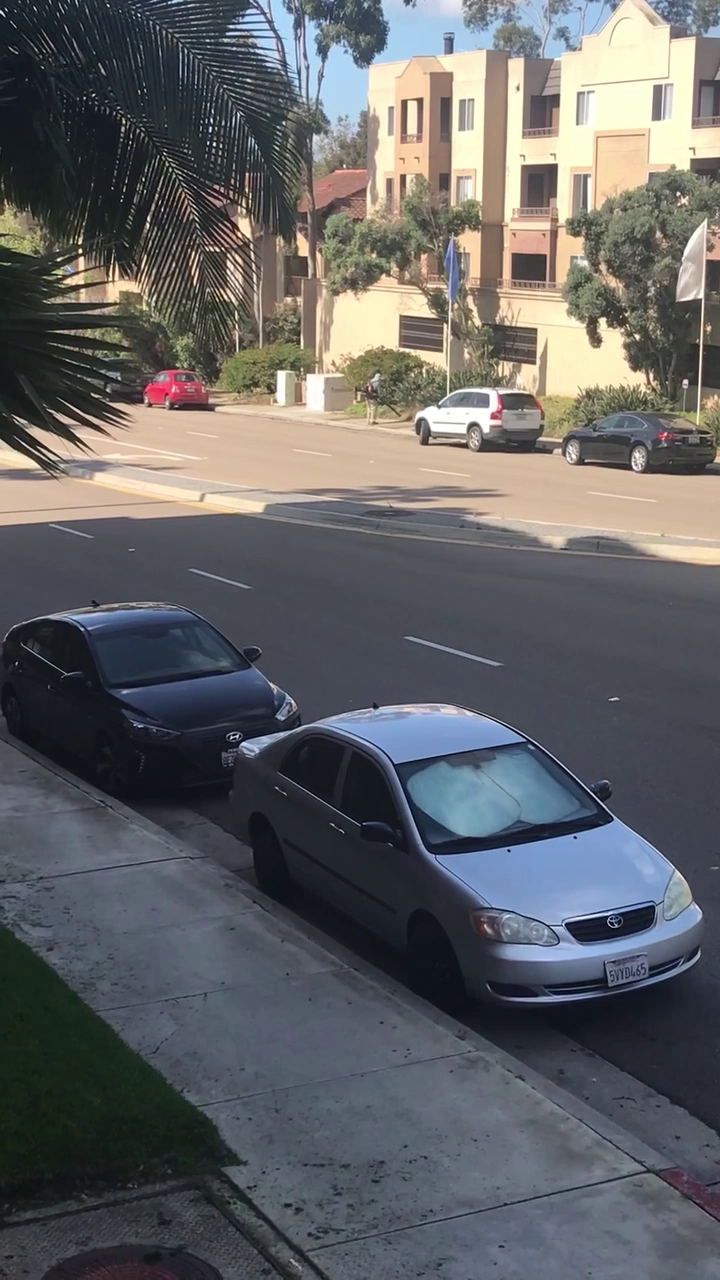car: (210, 704, 692, 1019), (0, 613, 307, 796)
